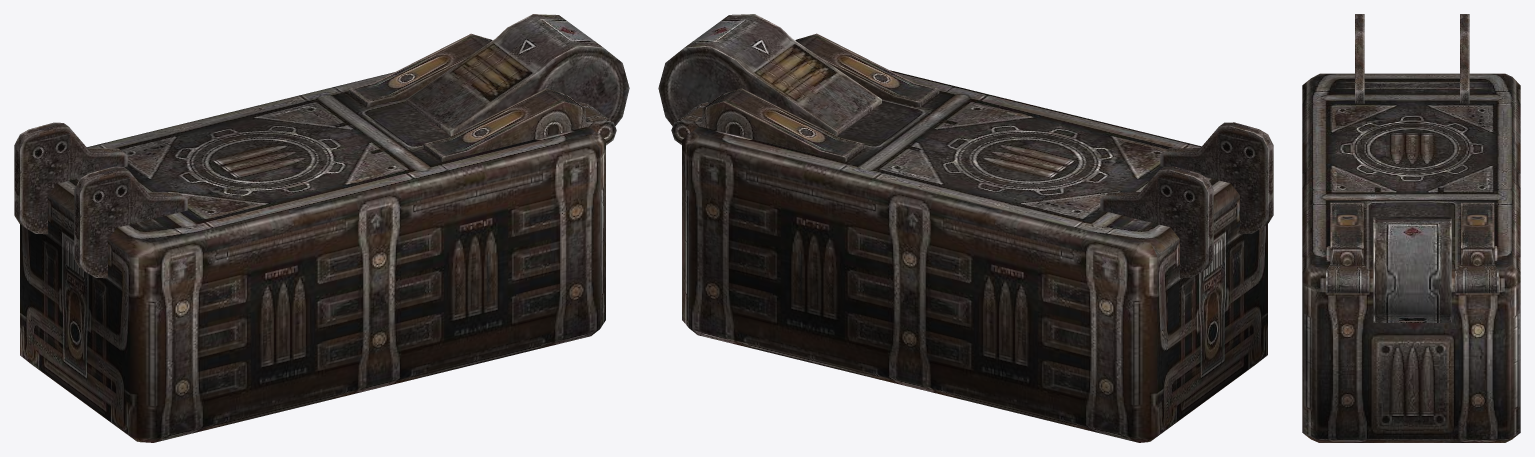
The model's file is Ammopickup_Box.fbx.
The picture shows the model from 3 angles, left to right: view 1: azimuth 30°, elevation 25°; view 2: azimuth 150°, elevation 25°; view 3: azimuth 270°, elevation 25°; orthographic projection. The views are drawn at different scales.
Parts seen in each view (by area): view 1: Ammopickup_Box; view 2: Ammopickup_Box; view 3: Ammopickup_Box.
Boxes of the visible parts, bbox=[...] form: Ammopickup_Box: bbox=[14, 14, 629, 442]; Ammopickup_Box: bbox=[658, 14, 1273, 442]; Ammopickup_Box: bbox=[1302, 14, 1520, 442].
Size of the model in its own units: 240 by 105 by 92.71.
